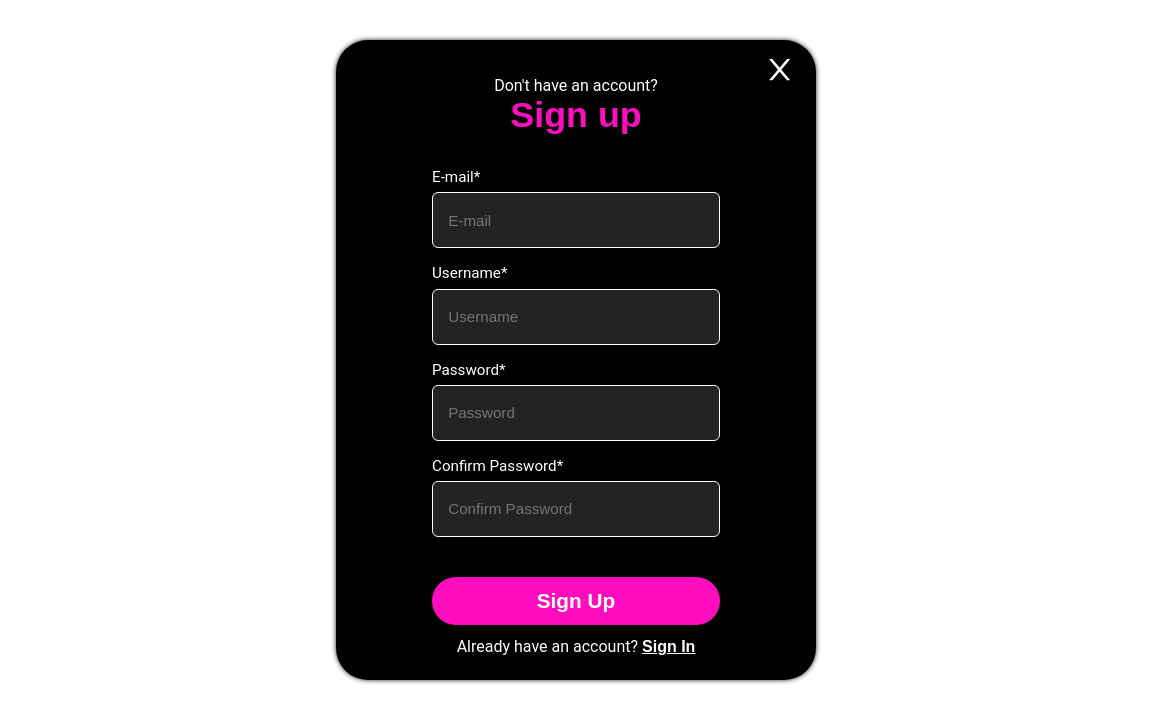
Scenario: form test › empty form, expect email, username, password field errors
The image size is (1152, 720).
Click the button with test id "submitButton": (576, 601) [432,577,720,625]
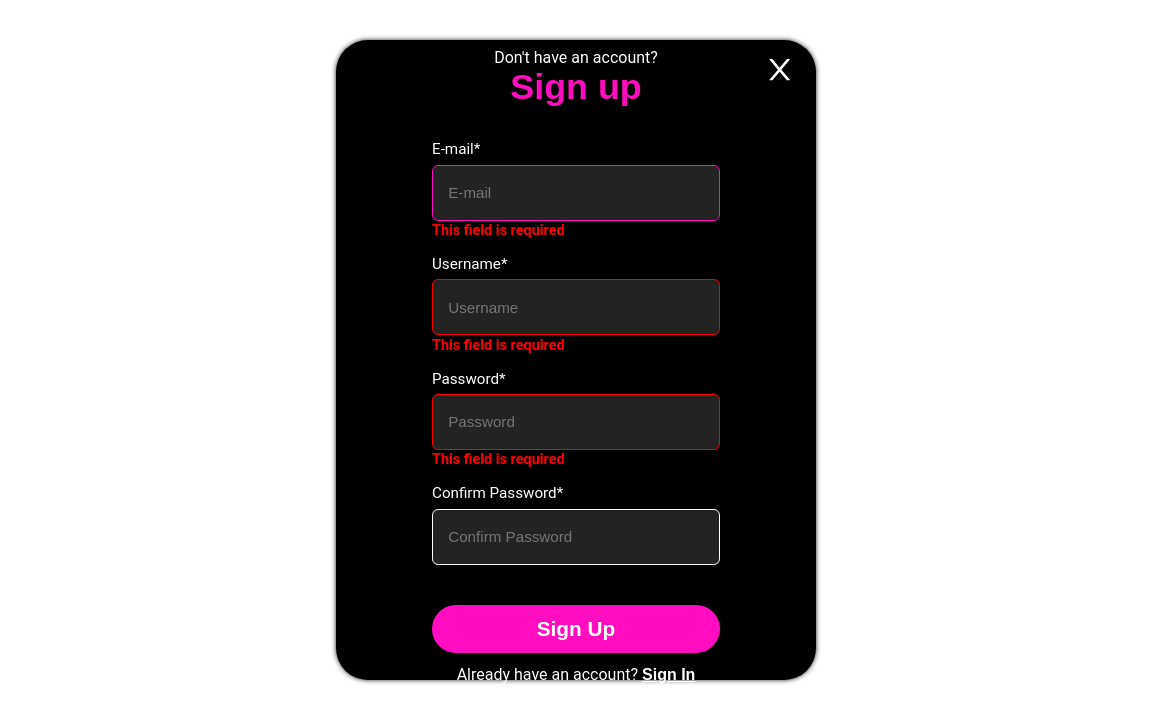
Expected: the number of elements with test id "error" is 3, [432,222,564,239]; [432,337,564,354]; [432,452,564,468]
Expected: the text with test id "error" below "E-mail" reads "This field is required", [432,222,564,239]
Expected: the text with test id "error" below "Username" reads "This field is required", [432,337,564,354]
